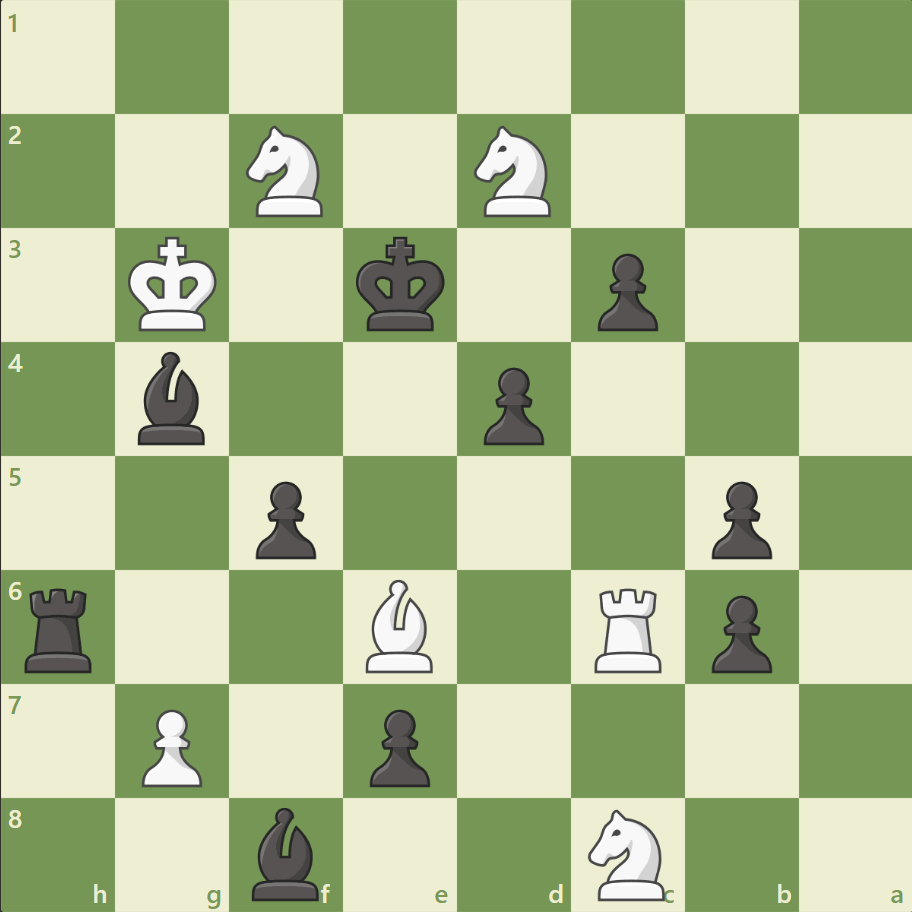B: (358, 574, 442, 676)
K: (124, 231, 224, 339)
N: (579, 802, 676, 904), (465, 121, 562, 223), (238, 121, 335, 223)
P: (133, 700, 208, 791)
R: (587, 579, 670, 676)
b: (244, 801, 328, 904), (131, 347, 215, 449)
k: (351, 231, 451, 339)
p: (701, 586, 776, 677), (701, 473, 776, 564), (247, 473, 322, 564), (474, 359, 549, 450), (361, 700, 435, 791), (588, 246, 662, 337)
r: (19, 579, 102, 676)
